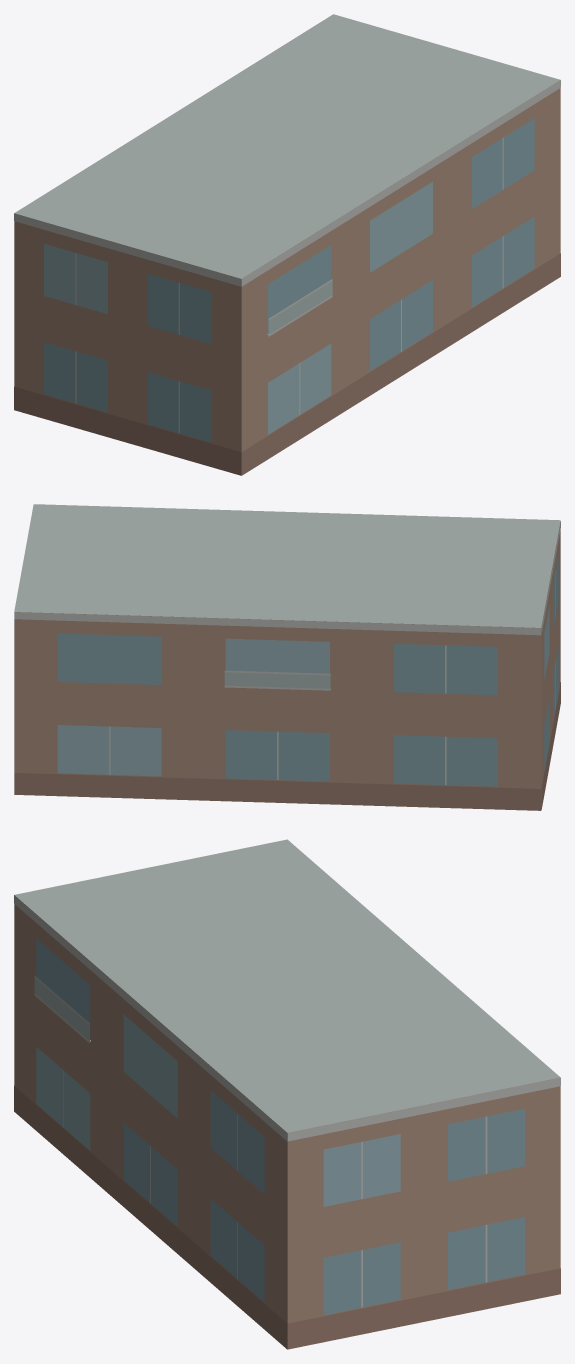
The model's file is survey-upis-33039407.glb.
The picture shows the model from 3 angles, top to bottom: view 1: azimuth 30°, elevation 25°; view 2: azimuth 150°, elevation 25°; view 3: azimuth 270°, elevation 25°; orthographic projection. The views are drawn at different scales.
Parts seen in each view (by area): view 1: survey-upis-33039407.tmp; view 2: survey-upis-33039407.tmp; view 3: survey-upis-33039407.tmp.
Part boxes in pixels (bbox=[...]): survey-upis-33039407.tmp: bbox=[14, 14, 560, 475]; survey-upis-33039407.tmp: bbox=[14, 504, 560, 810]; survey-upis-33039407.tmp: bbox=[14, 839, 560, 1349].
Bounding box in the file's own units: 17.74 × 6.1 × 13.96.
